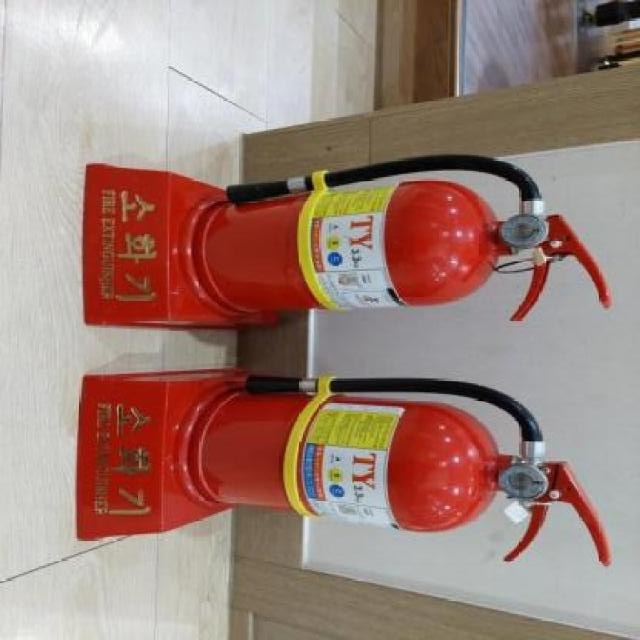fire extinguisher: (187, 374, 611, 568), (194, 154, 612, 321)
